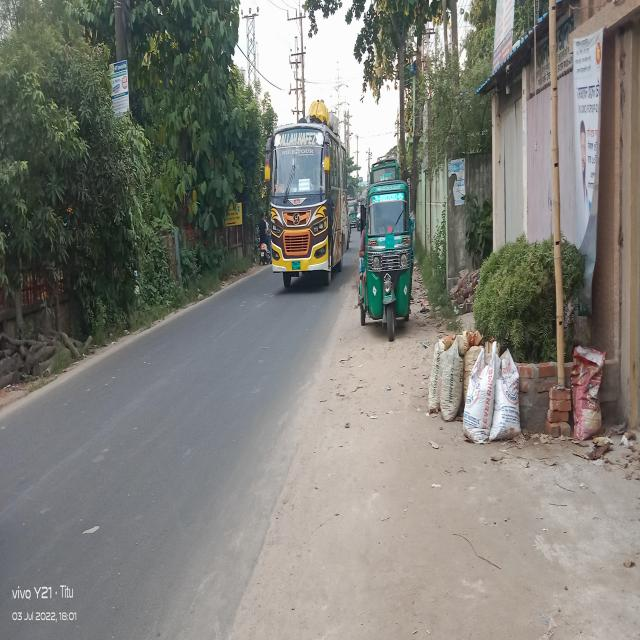bus: (258, 87, 358, 306)
